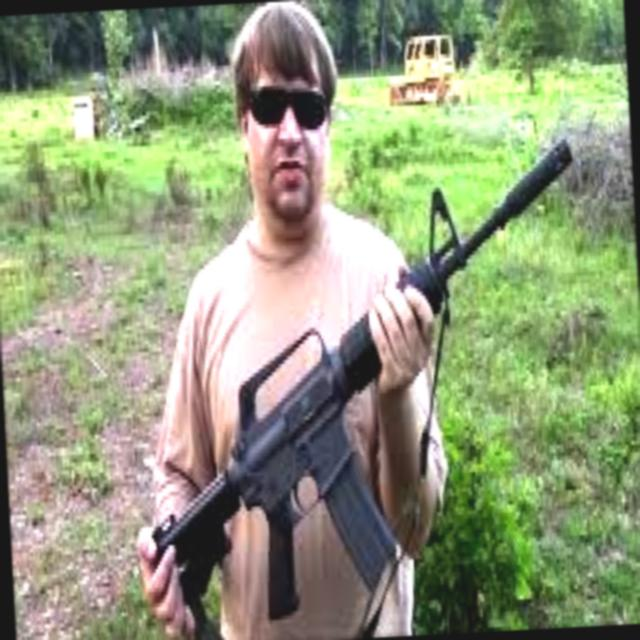m16: (182, 182, 577, 620)
